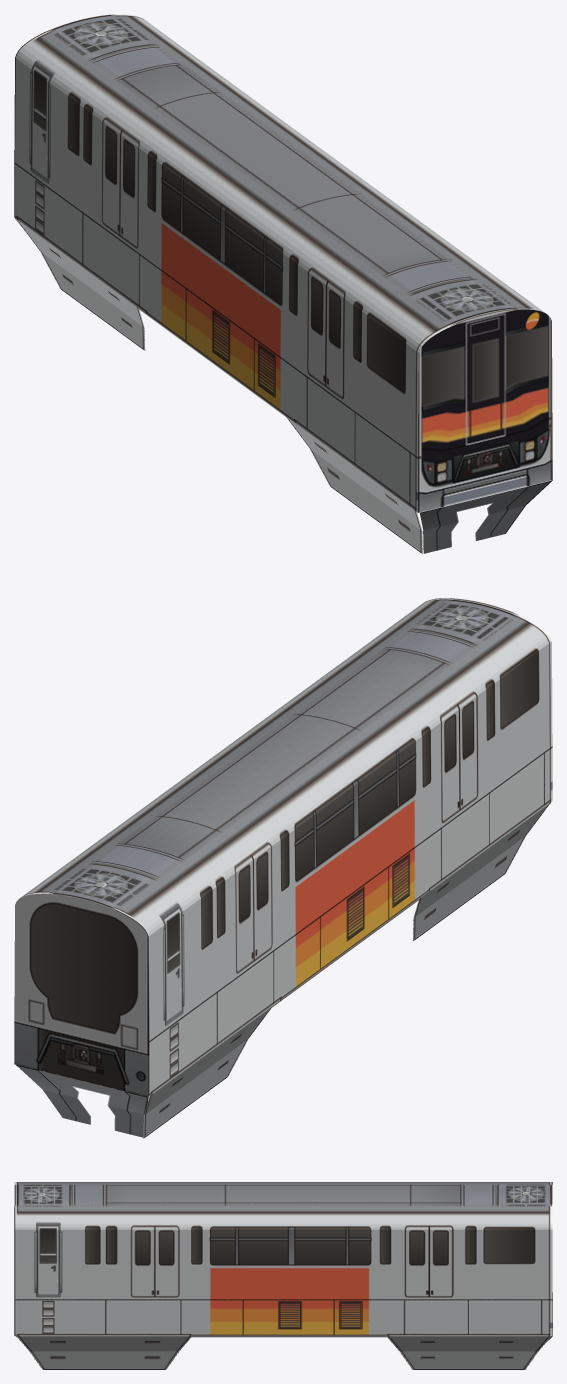
Rendered from car1.glb.
3 views of the same model, one above another, from view 1: azimuth 30°, elevation 25°; view 2: azimuth 150°, elevation 25°; view 3: azimuth 270°, elevation 25° (orthographic). The views are drawn at different scales.
Visible parts, largest first — view 1: tamamono1000-car1; view 2: tamamono1000-car1; view 3: tamamono1000-car1.
Boxes of the visible parts, left/top/right/bottom form: tamamono1000-car1: left=14, top=14, right=552, bottom=553; tamamono1000-car1: left=14, top=598, right=552, bottom=1138; tamamono1000-car1: left=14, top=1182, right=552, bottom=1369.
Bounding box in the file's own units: 2.98 × 5.18 × 15.53.
Materials: 8 (7 with a texture image).
